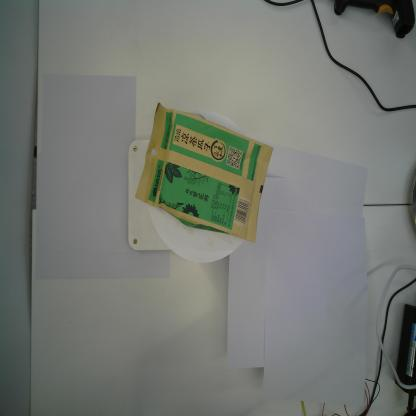Dried Food: (134, 100, 274, 245)
